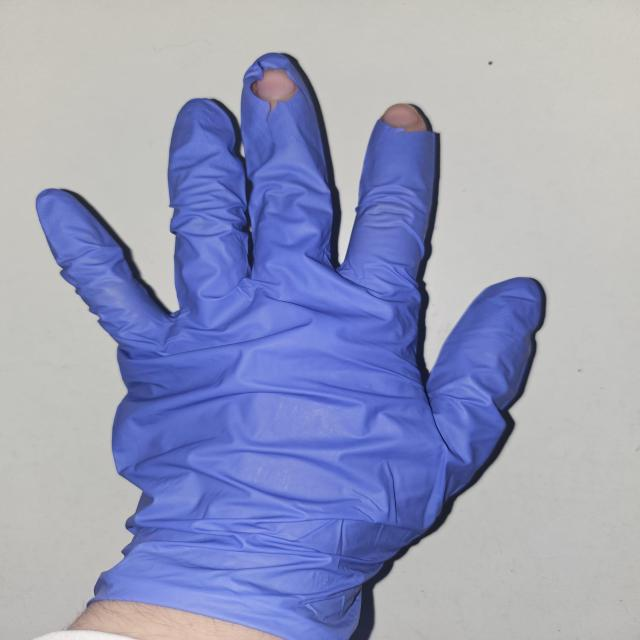gloves_damaged: (33, 51, 548, 638)
